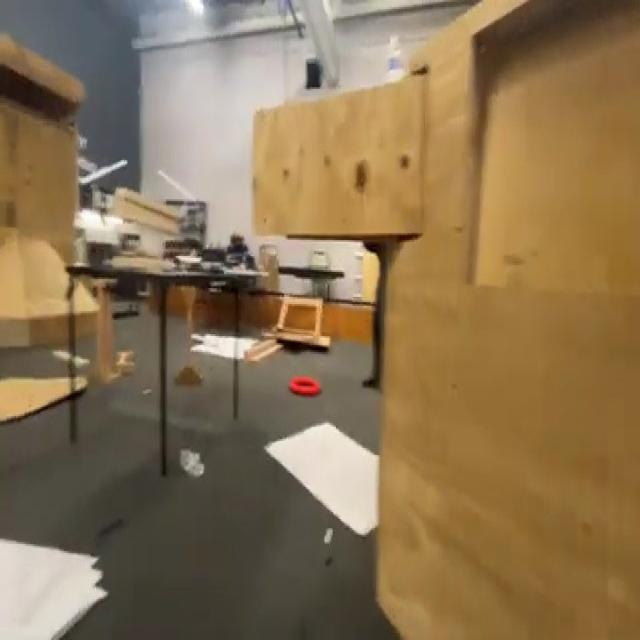note: (288, 376, 321, 398)
